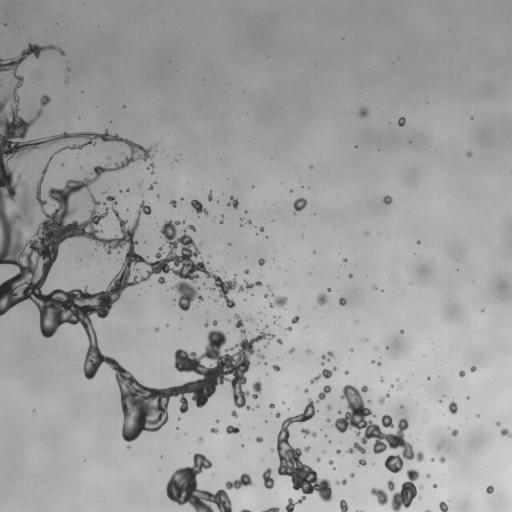droplet: (333, 384, 423, 473), (166, 453, 253, 511), (387, 469, 418, 511), (370, 487, 388, 505), (269, 293, 287, 308), (262, 468, 274, 489), (293, 198, 307, 212), (382, 414, 393, 428), (252, 381, 261, 398), (227, 196, 238, 208), (317, 293, 328, 305), (321, 351, 334, 361), (448, 400, 457, 414), (226, 424, 240, 433), (40, 95, 50, 105), (358, 107, 368, 117), (500, 428, 511, 437), (106, 196, 116, 205), (439, 501, 448, 511), (383, 195, 392, 204), (147, 163, 154, 174), (340, 500, 347, 511), (398, 117, 405, 126), (291, 316, 299, 323), (358, 458, 366, 465), (486, 485, 493, 493), (258, 258, 265, 265), (339, 298, 346, 305), (451, 429, 458, 436), (170, 200, 176, 207), (257, 352, 264, 358), (246, 316, 254, 321), (276, 338, 282, 344), (273, 365, 279, 371), (459, 371, 465, 377), (231, 411, 237, 417), (439, 457, 445, 463), (211, 428, 218, 433), (256, 437, 263, 442), (285, 326, 291, 331), (397, 383, 402, 389), (326, 404, 331, 410), (289, 348, 294, 353), (470, 366, 475, 371), (269, 403, 274, 408), (275, 412, 280, 417), (198, 437, 203, 442), (304, 446, 309, 451), (306, 349, 312, 353), (466, 152, 471, 156), (267, 285, 272, 289), (275, 316, 280, 320), (213, 320, 217, 325), (342, 479, 346, 484), (247, 219, 251, 223), (259, 227, 263, 231), (204, 322, 208, 326), (155, 327, 159, 331), (374, 347, 378, 351), (344, 370, 348, 374), (304, 388, 308, 392), (326, 418, 330, 422), (316, 457, 320, 461), (329, 460, 333, 464), (350, 473, 354, 477), (426, 474, 430, 478), (365, 231, 368, 235), (343, 258, 347, 261), (244, 270, 248, 273), (348, 274, 352, 277), (373, 285, 376, 289), (264, 294, 268, 297), (355, 319, 358, 323), (377, 362, 381, 365), (496, 422, 500, 425), (337, 449, 340, 453), (310, 165, 313, 168), (289, 189, 292, 192), (380, 378, 383, 381), (433, 484, 436, 487), (126, 189, 129, 191), (220, 220, 222, 223), (417, 241, 420, 243), (328, 288, 330, 291), (400, 330, 403, 332), (372, 360, 374, 363), (427, 377, 430, 379), (338, 411, 341, 413), (127, 446, 130, 448), (271, 448, 273, 451), (431, 458, 433, 461), (420, 486, 423, 488), (18, 176, 20, 178), (119, 190, 121, 192), (241, 218, 243, 220), (228, 319, 230, 321), (166, 324, 168, 326), (391, 385, 393, 387)
ligament: (0, 52, 266, 441), (277, 385, 332, 511), (310, 367, 336, 383), (191, 199, 208, 215), (301, 428, 316, 437), (378, 393, 390, 404), (148, 181, 156, 190), (262, 507, 279, 511), (208, 191, 212, 200), (241, 509, 250, 511), (0, 79, 1, 86), (425, 510, 430, 511)
